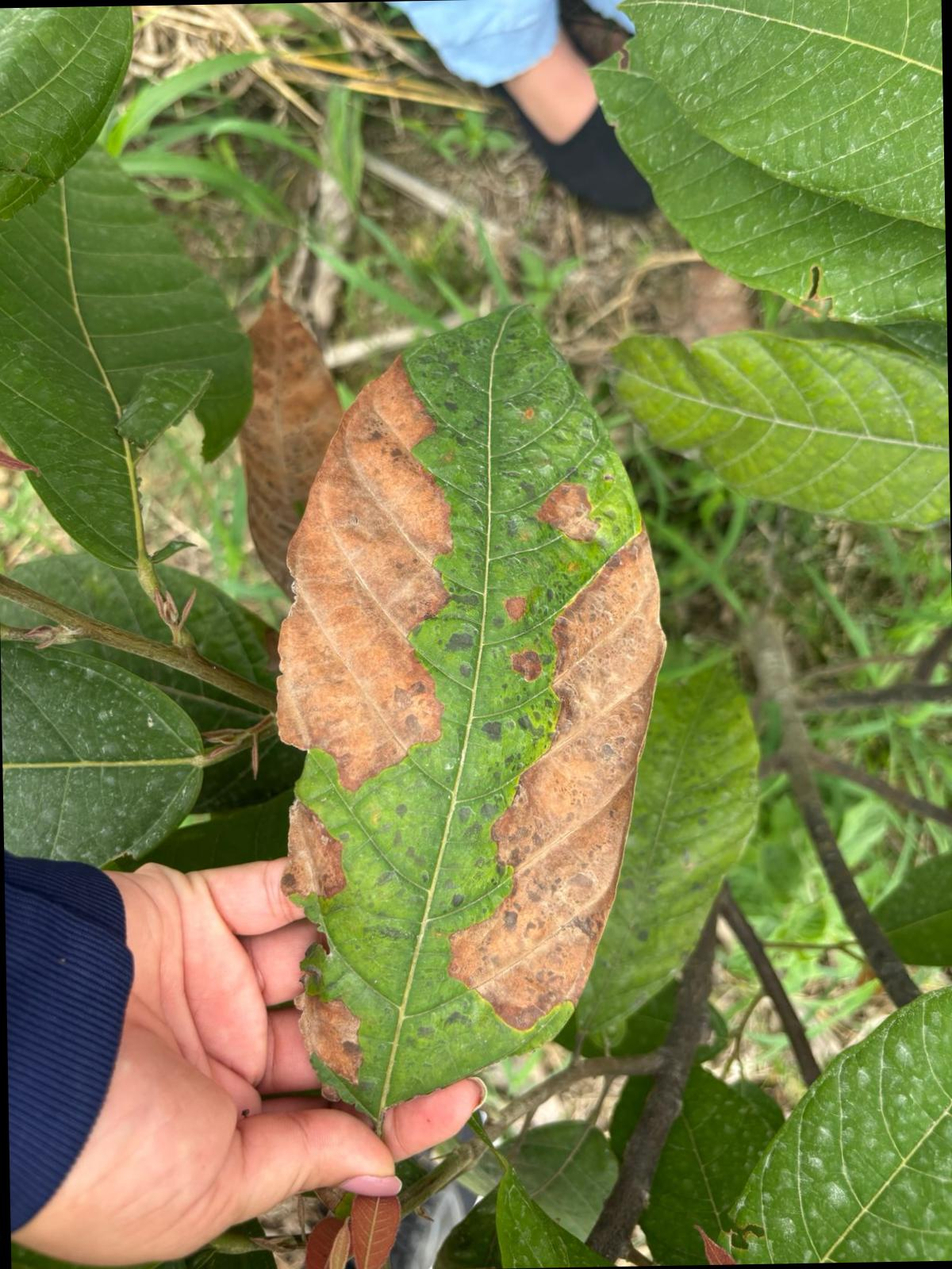Potasio: (278, 308, 664, 1119)
